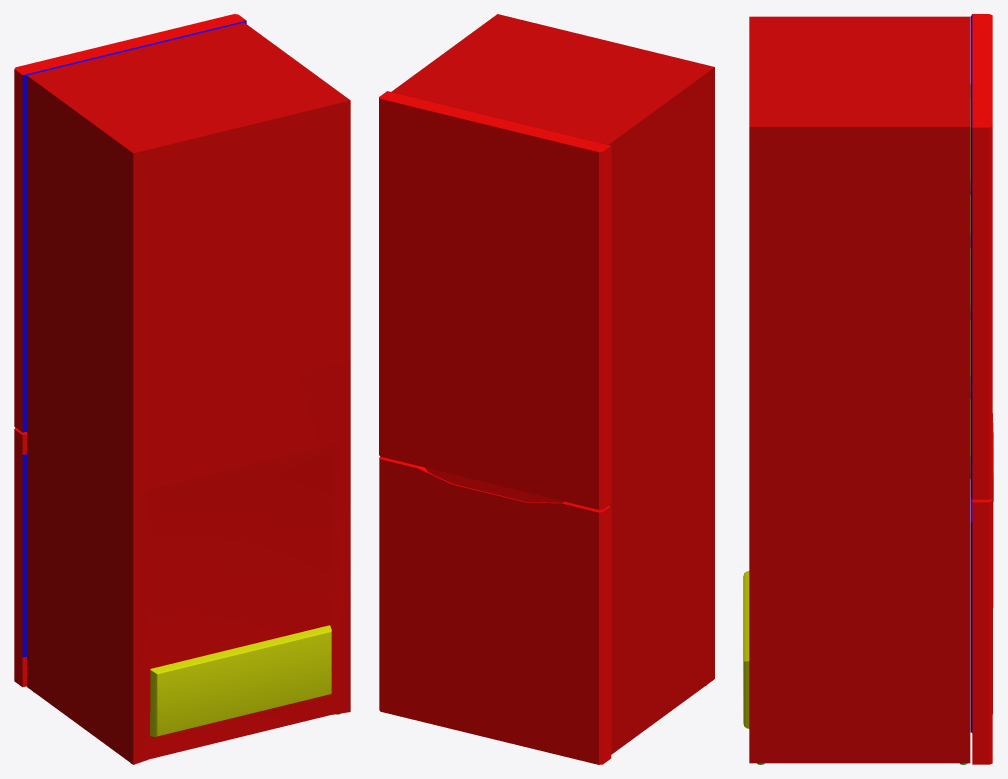
Rendered from Fridge.FBX.
3 views of the same model, side by side, from view 1: azimuth 30°, elevation 25°; view 2: azimuth 150°, elevation 25°; view 3: azimuth 270°, elevation 25° (orthographic). The views are drawn at different scales.
Parts seen in each view (by area): view 1: Fridge main, Fridge door 2, Fridge door 1; view 2: Fridge main, Fridge door 2, Fridge door 1; view 3: Fridge main, Fridge door 2, Fridge door 1.
Part boxes in pixels (x1,y1,x2,y2): Fridge main: (27, 22, 350, 764); Fridge door 2: (14, 14, 246, 432); Fridge door 1: (14, 427, 26, 687); Fridge main: (391, 14, 714, 754); Fridge door 2: (379, 91, 611, 509); Fridge door 1: (379, 456, 611, 764); Fridge main: (743, 16, 970, 764); Fridge door 2: (970, 14, 992, 499); Fridge door 1: (970, 413, 993, 764).
Bounding box in the file's own units: 26.09 × 68.57 × 24.26.
